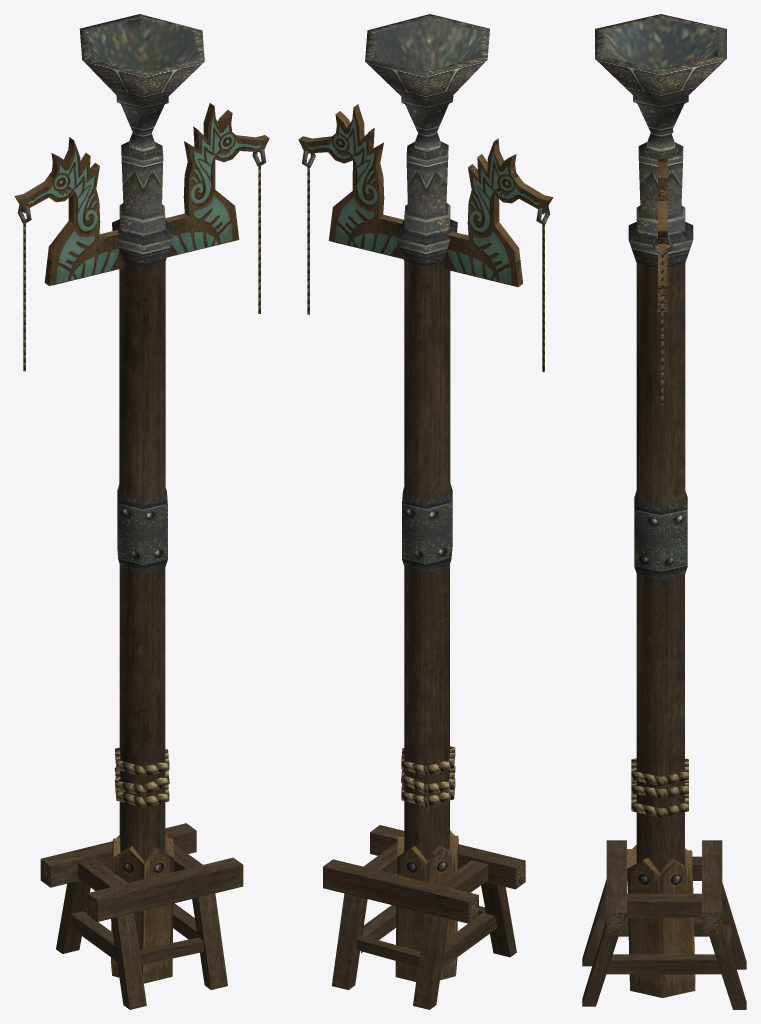
File: streetlight.glb
3 renders of one model, left to right at view 1: azimuth 30°, elevation 25°; view 2: azimuth 150°, elevation 25°; view 3: azimuth 270°, elevation 25°, orthographic.
Visible parts, largest first — view 1: streetlight; view 2: streetlight; view 3: streetlight.
Boxes of the visible parts, x1=… form: streetlight: x1=14, y1=14, x2=269, y2=1009; streetlight: x1=298, y1=14, x2=553, y2=1009; streetlight: x1=582, y1=14, x2=746, y2=1009.
Size of the model in its own units: 1.61 by 5.68 by 0.8995.
Materials: 2 (2 with a texture image).
